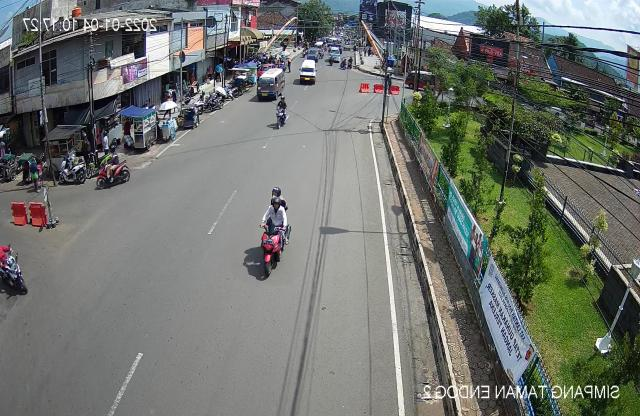Mobil: (253, 68, 287, 101), (296, 58, 318, 87)
Motor: (250, 183, 292, 286), (0, 238, 30, 302), (95, 144, 127, 195), (56, 152, 88, 190), (83, 147, 113, 179), (271, 94, 288, 132)
